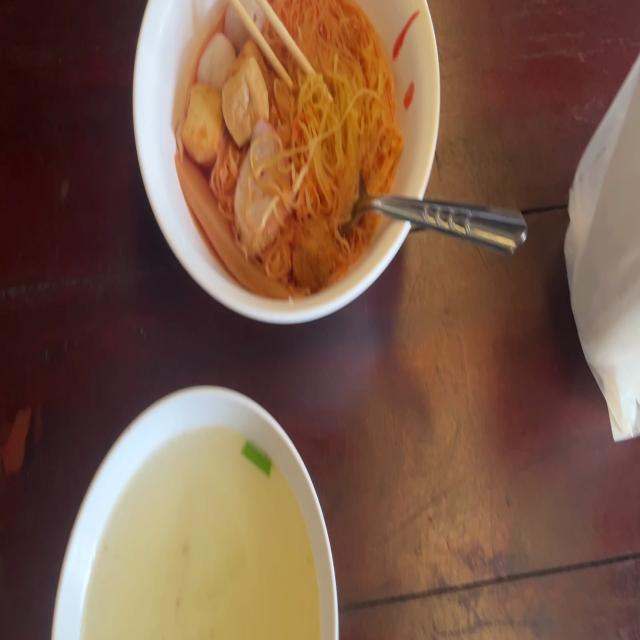crunchy_squid: (177, 153, 290, 302)
egg_noodles: (269, 4, 389, 227)
fish_ball: (199, 27, 237, 94), (222, 0, 270, 50)
fried_fish_balls: (232, 123, 286, 250)
fried_tofu: (229, 40, 264, 131)
noodle: (178, 5, 386, 287)
tofu: (186, 85, 224, 160)
